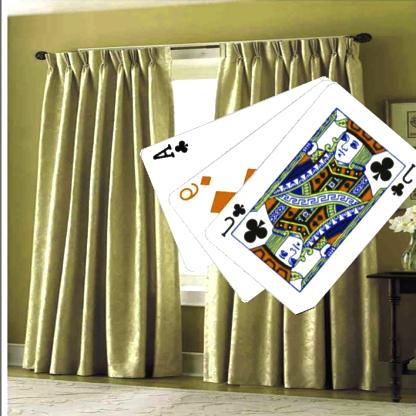9D: (178, 172, 214, 202)
AC: (151, 137, 191, 161)
JC: (220, 200, 249, 238), (389, 160, 416, 198)
